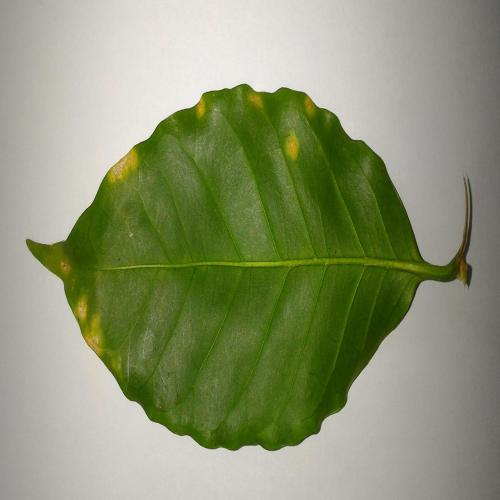phoma: (247, 88, 263, 109)
